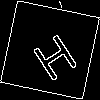H: (25, 25, 81, 83)
